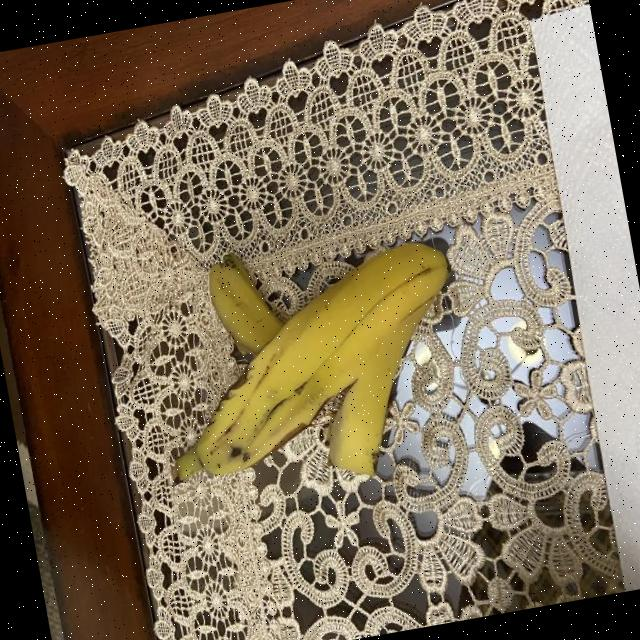banana-peel: (136, 215, 482, 510)
